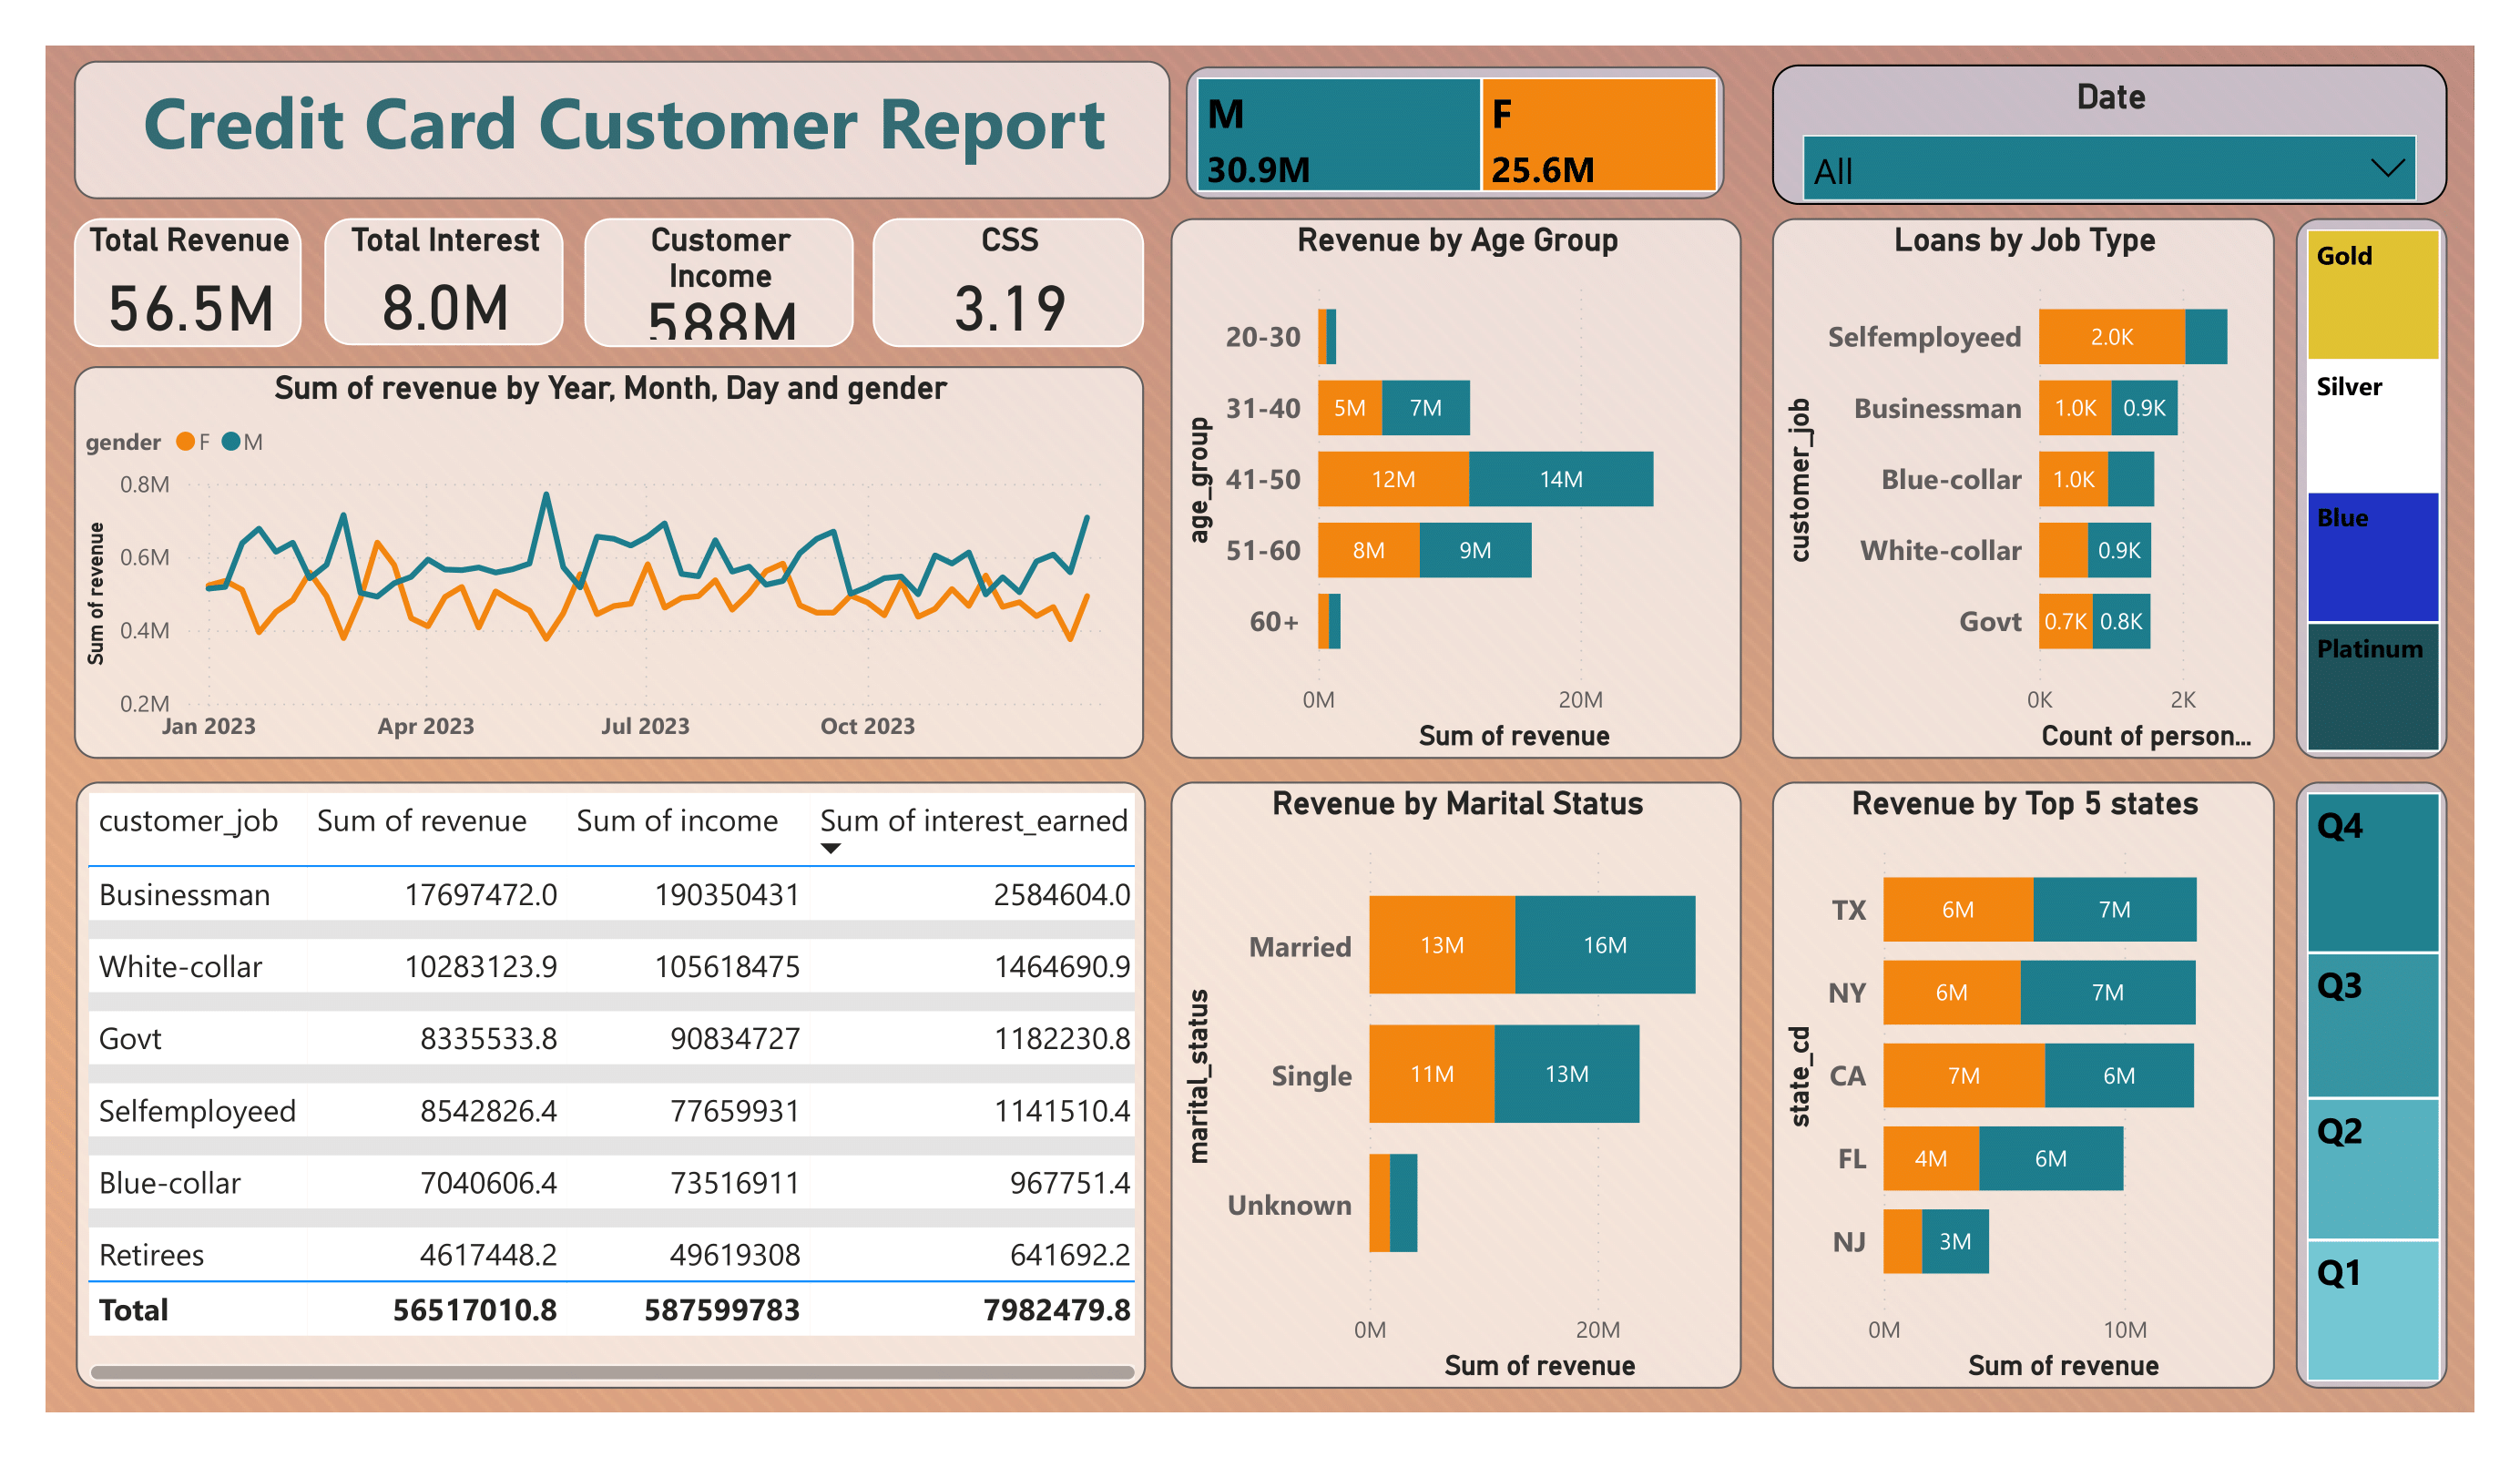

Layout of this report page (visuals, bound fields, positions):
{"tool":"powerbi","page":{"name":"cc_customer","canvas":[1280,720],"ordinal":2},"visuals":[{"type":"textbox","box":[15,7.5,577.5,73.8],"z":0},{"type":"barChart","title":"Revenue by Marital Status","fields":{"Y":["Sum(public cc_detail.revenue)"],"Category":["public cust_detail.marital_status"],"Series":["public cust_detail.gender"]},"box":[592.5,387.5,301.2,320],"z":1000},{"type":"tableEx","fields":{"Values":["public cust_detail.customer_job","Sum(public cc_detail.revenue)","Sum(public cust_detail.income)","Sum(public cc_detail.interest_earned)"]},"box":[16.2,387.5,563.8,320],"z":2000},{"type":"card","title":"Total Revenue","fields":{"Values":["Sum(public cc_detail.revenue)"]},"box":[15,91.2,120,67.5],"z":3000},{"type":"card","title":"Customer Income","fields":{"Values":["Sum(public cust_detail.income)"]},"box":[283.8,91.2,142.5,67.5],"z":4000},{"type":"card","title":"Total Interest","fields":{"Values":["Sum(public cc_detail.interest_earned)"]},"box":[147,90.8,126.2,67.5],"z":5000},{"type":"card","title":"CSS","fields":{"Values":["Avg(public cust_detail.cust_satisfaction_score)"]},"box":[436.2,91.2,142.5,67.5],"z":6000},{"type":"slicer","title":"Date","fields":{"Values":["public cc_detail.week_start_date"]},"box":[910,10,356.2,73.8],"z":7000},{"type":"treemap","fields":{"Group":["public cc_detail.card_category"],"Values":["Avg(public cc_detail.client_num)"]},"box":[1186.2,91.2,80,285],"z":8000},{"type":"treemap","fields":{"Group":["public cc_detail.qtr"],"Values":["Avg(public cc_detail.client_num)"]},"box":[1186.2,387.5,80,320],"z":11000},{"type":"lineChart","fields":{"Y":["Sum(public cc_detail.revenue)"],"Series":["public cust_detail.gender"],"Category":["public cc_detail.week_start_date.Variation.Date Hierarchy.Year","public cc_detail.week_start_date.Variation.Date Hierarchy.Month","public cc_detail.week_start_date.Variation.Date Hierarchy.Day"]},"box":[15,168.8,563.8,207.5],"z":12000},{"type":"treemap","fields":{"Group":["public cust_detail.gender"],"Values":["Sum(public cc_detail.revenue)"]},"box":[601.2,11.2,283.8,70],"z":13000},{"type":"barChart","title":"Revenue by Age Group","fields":{"Y":["Sum(public cc_detail.revenue)"],"Category":["public cust_detail.age_group"],"Series":["public cust_detail.gender"]},"box":[592.5,91.2,301.2,285],"z":14000},{"type":"barChart","title":"Loans by Job Type","fields":{"Series":["public cust_detail.gender"],"Y":["CountNonNull(public cust_detail.personal_loan)"],"Category":["public cust_detail.customer_job"]},"box":[910,91.2,265,285],"z":14001},{"type":"barChart","title":"Revenue by Top 5 states","fields":{"Y":["Sum(public cc_detail.revenue)"],"Category":["public cust_detail.state_cd"],"Series":["public cust_detail.gender"]},"box":[910,387.5,265,320],"z":14002}]}

Visuals, with their boxes on the page's 1280x720 design canvas (x1, y1, x2, y2). These are canvas units, not pixel positions in the 2520x1457 screenshot, which may show the page scaled, cropped or inside an application window:
textbox: 15,8,592,81
"Revenue by Marital Status" barChart: 592,388,894,708
tableEx - public cust_detail.customer_job x Sum(public cc_detail.revenue): 16,388,580,708
"Total Revenue" card: 15,91,135,159
"Customer Income" card: 284,91,426,159
"Total Interest" card: 147,91,273,158
"CSS" card: 436,91,579,159
"Date" slicer: 910,10,1266,84
treemap - public cc_detail.card_category x Avg(public cc_detail.client_num): 1186,91,1266,376
treemap - public cc_detail.qtr x Avg(public cc_detail.client_num): 1186,388,1266,708
lineChart - Sum(public cc_detail.revenue) x public cust_detail.gender: 15,169,579,376
treemap - public cust_detail.gender x Sum(public cc_detail.revenue): 601,11,885,81
"Revenue by Age Group" barChart: 592,91,894,376
"Loans by Job Type" barChart: 910,91,1175,376
"Revenue by Top 5 states" barChart: 910,388,1175,708
